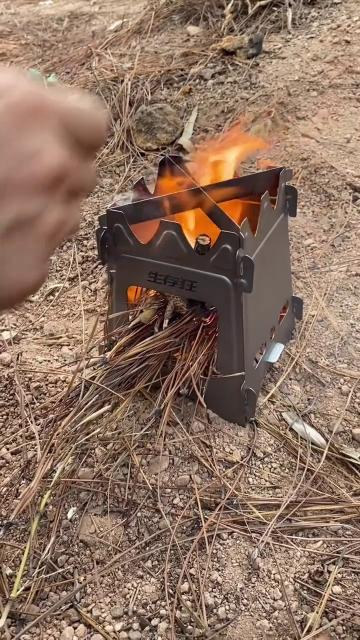fire: (131, 126, 272, 250)
